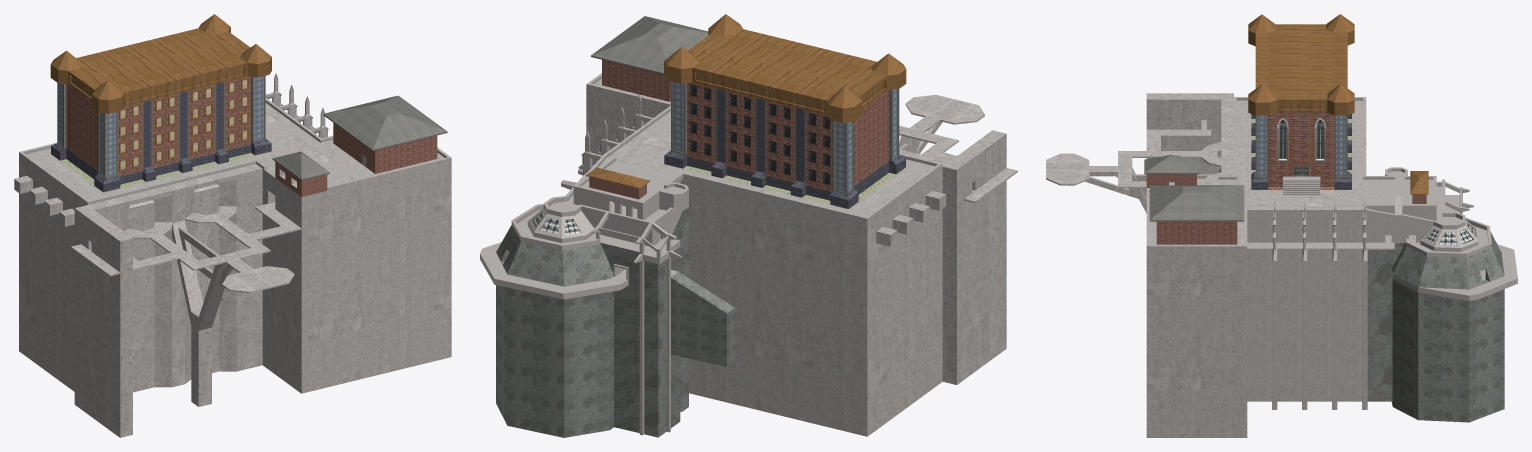
File: island_complex.fbx
The picture shows the model from 3 angles, left to right: view 1: azimuth 30°, elevation 25°; view 2: azimuth 150°, elevation 25°; view 3: azimuth 270°, elevation 25°; orthographic projection. The views are drawn at different scales.
Parts seen in each view (by area): view 1: island_complex; view 2: island_complex; view 3: island_complex.
Part boxes in pixels (bbox=[...]): island_complex: bbox=[14, 14, 451, 437]; island_complex: bbox=[480, 14, 1017, 437]; island_complex: bbox=[1046, 14, 1517, 437].
Bounding box in the file's own units: 10003 × 8047 × 6797.
Materials: 23 (23 with a texture image).
